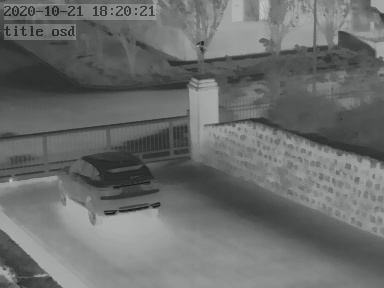vehicle: (57, 155, 157, 220)
